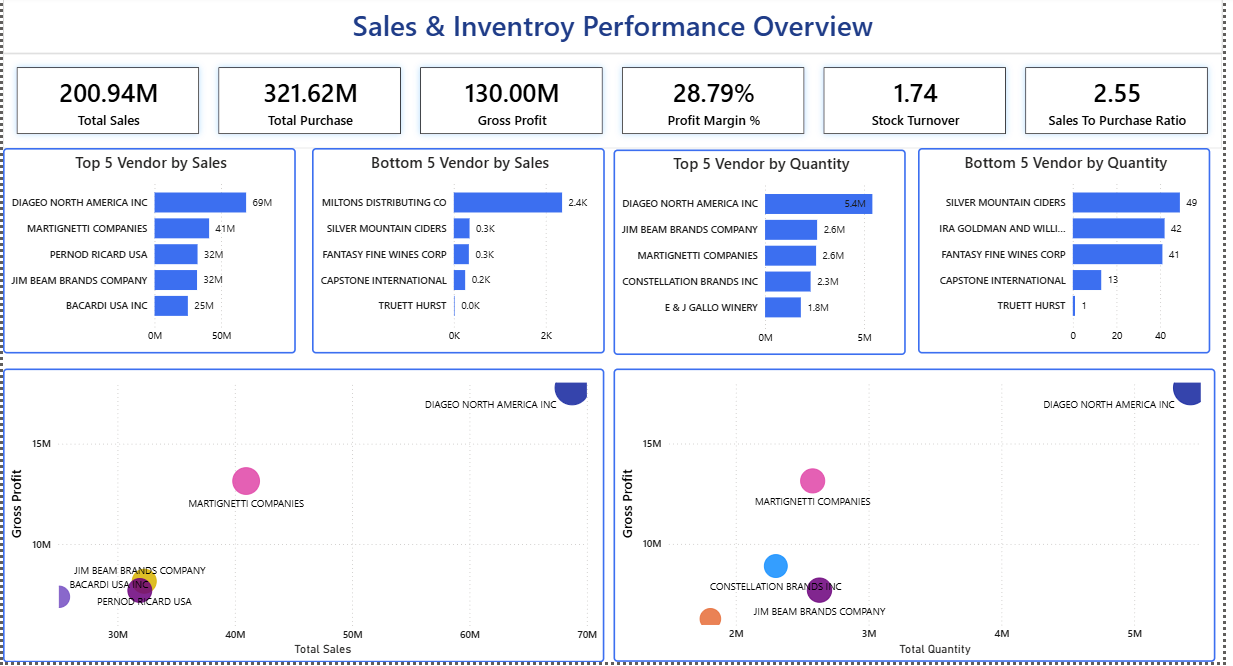

What the dashboard file says about the page in this screenshot:
{"tool":"powerbi","page":{"name":"Page 1","canvas":[1500,820],"ordinal":0},"visuals":[{"type":"cardVisual","fields":{"Data":["Sum(vendor_sales_summary.TotalSalesPrice)","Sum(vendor_sales_summary.TotalPurchaseDollars)","Sum(vendor_sales_summary.GrossProfit)","vendor_sales_summary.Profit Margin %","Avg(vendor_sales_summary.StockTurnover)","Avg(vendor_sales_summary.SalesToPurchaseRatio)"]},"box":[0,71.9,1499.4,116.5],"z":0},{"type":"shape","box":[0,0,1499.4,72],"z":1000},{"type":"barChart","title":"Top 5 Vendor by Sales","fields":{"Category":["vendor_sales_summary.VendorName"],"Y":["Sum(vendor_sales_summary.TotalSalesDollars)"]},"box":[0,188.1,360,252.6],"z":3000},{"type":"barChart","title":"Bottom 5 Vendor by Sales","fields":{"Category":["vendor_sales_summary.VendorName"],"Y":["Sum(vendor_sales_summary.TotalSalesDollars)"]},"box":[379.9,188.1,360,252.6],"z":4000},{"type":"scatterChart","title":"Total Sales, Gross Profit and Total Sales by VendorName and VendorName","fields":{"X":["Sum(vendor_sales_summary.TotalSalesDollars)"],"Category":["vendor_sales_summary.VendorName"],"Y":["Sum(vendor_sales_summary.GrossProfit)"],"Size":["Sum(vendor_sales_summary.TotalSalesDollars)"],"Series":["vendor_sales_summary.VendorName"]},"box":[0,459.2,739.5,361.4],"z":6000},{"type":"barChart","title":"Top 5 Vendor by Quantity","fields":{"Category":["vendor_sales_summary.VendorName"],"Y":["Sum(vendor_sales_summary.TotalSalesQuantity)"]},"box":[750.6,189.9,359.6,252.6],"z":6001},{"type":"barChart","title":"Bottom 5 Vendor by Quantity","fields":{"Category":["vendor_sales_summary.VendorName"],"Y":["Sum(vendor_sales_summary.TotalSalesQuantity)"]},"box":[1124.9,188.1,359.6,252.6],"z":6002},{"type":"scatterChart","title":"Total Sales, Gross Profit and Total Sales by VendorName and VendorName","fields":{"Category":["vendor_sales_summary.VendorName"],"Y":["Sum(vendor_sales_summary.GrossProfit)"],"Series":["vendor_sales_summary.VendorName"],"X":["Sum(vendor_sales_summary.TotalSalesQuantity)"],"Size":["Sum(vendor_sales_summary.TotalSalesQuantity)"]},"box":[750.7,458.4,739.7,361],"z":6003}]}

Visuals, with their boxes in screenshot pixels (x1, y1, x2, y2), scaled from the page's 1500x820 canvas onto the 1233x666 screenshot:
cardVisual - Sum(vendor_sales_summary.TotalSalesPrice) x Sum(vendor_sales_summary.TotalPurchaseDollars): rect(0, 58, 1232, 153)
shape: rect(0, 0, 1232, 58)
"Top 5 Vendor by Sales" barChart: rect(0, 153, 296, 358)
"Bottom 5 Vendor by Sales" barChart: rect(312, 153, 608, 358)
"Total Sales, Gross Profit and Total Sales by VendorName and VendorName" scatterChart: rect(0, 373, 608, 665)
"Top 5 Vendor by Quantity" barChart: rect(617, 154, 913, 359)
"Bottom 5 Vendor by Quantity" barChart: rect(925, 153, 1220, 358)
"Total Sales, Gross Profit and Total Sales by VendorName and VendorName" scatterChart: rect(617, 372, 1225, 665)
